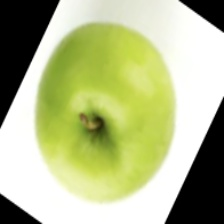apple: (56, 32, 203, 184)
